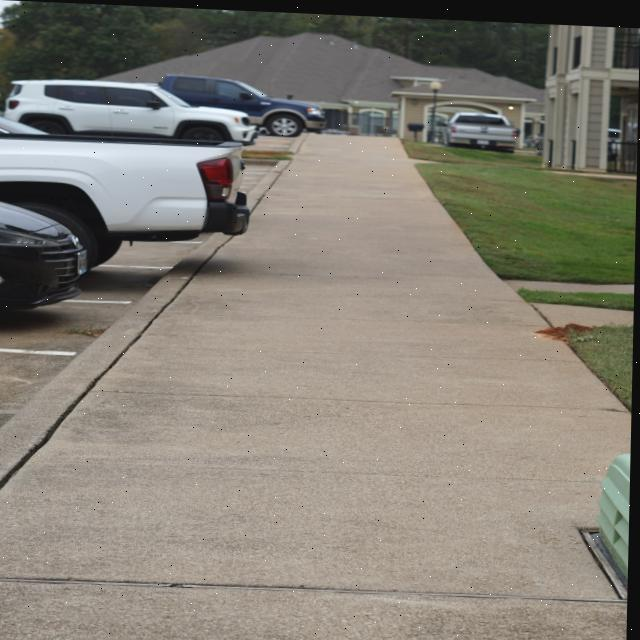Automobile: (0, 74, 327, 307), (443, 108, 518, 145)
Obstacle: (599, 448, 633, 574)
Road: (0, 235, 207, 429)
Sidewalk: (0, 132, 635, 640), (545, 278, 636, 287)
